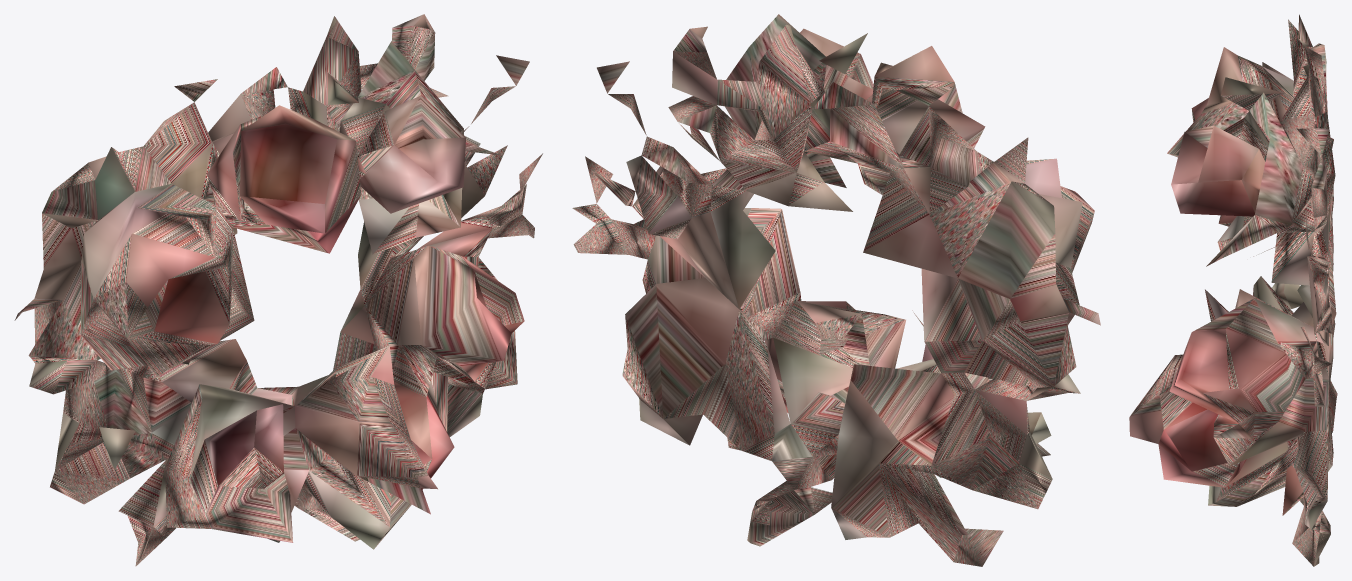
3 views of the same model, side by side, from view 1: azimuth 30°, elevation 25°; view 2: azimuth 150°, elevation 25°; view 3: azimuth 270°, elevation 25° (orthographic). The views are drawn at different scales.
Parts seen in each view (by area): view 1: Rose-Frame-10-12; view 2: Rose-Frame-10-12; view 3: Rose-Frame-10-12.
Part boxes in pixels (x1,y1,x2,y2): Rose-Frame-10-12: [14, 14, 542, 566]; Rose-Frame-10-12: [572, 14, 1100, 566]; Rose-Frame-10-12: [1129, 14, 1337, 566].
Bounding box in the file's own units: 0.3002 × 0.2899 × 0.1119.
1 material, 1 textured.
